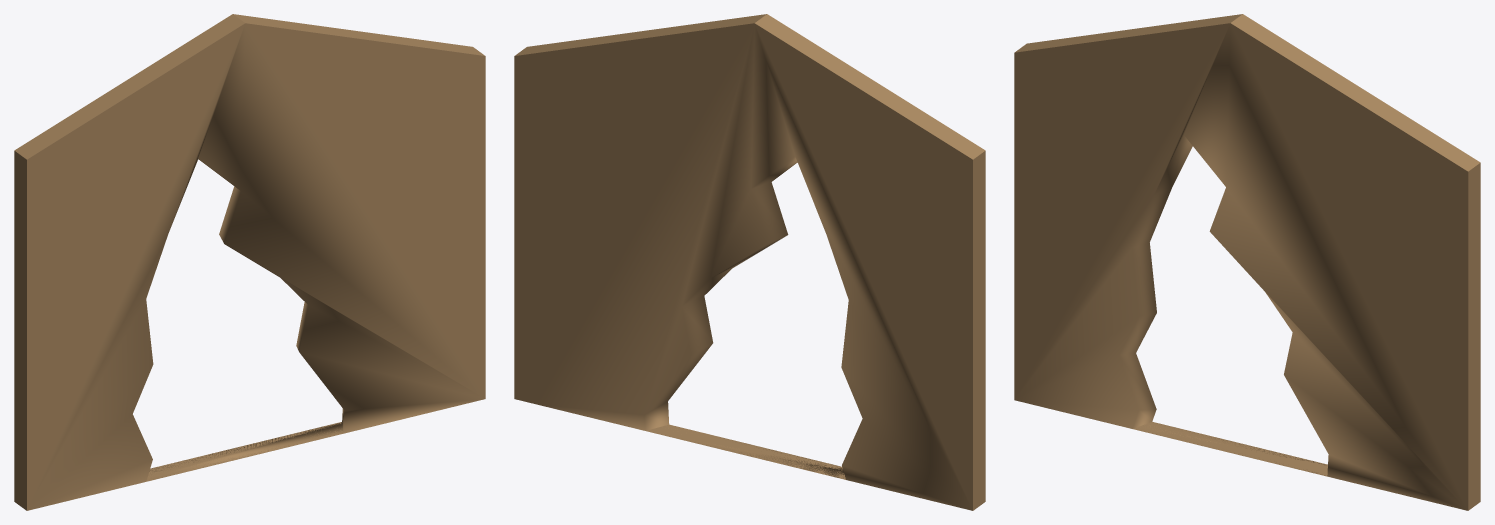
Rendered from Mur Maison.fbx.
The picture shows the model from 3 angles, left to right: view 1: azimuth 30°, elevation 25°; view 2: azimuth 150°, elevation 25°; view 3: azimuth 330°, elevation 25°; orthographic projection.
Visible parts, largest first — view 1: Mur de base Mur - Bois [293416].001; view 2: Mur de base Mur - Bois [293416].001; view 3: Mur de base Mur - Bois [293416].001.
Part boxes in pixels (x1,y1,x2,y2): Mur de base Mur - Bois [293416].001: [14, 14, 485, 510]; Mur de base Mur - Bois [293416].001: [514, 14, 985, 510]; Mur de base Mur - Bois [293416].001: [1014, 14, 1480, 510].
Size of the model in its own units: 420 by 380 by 20.
